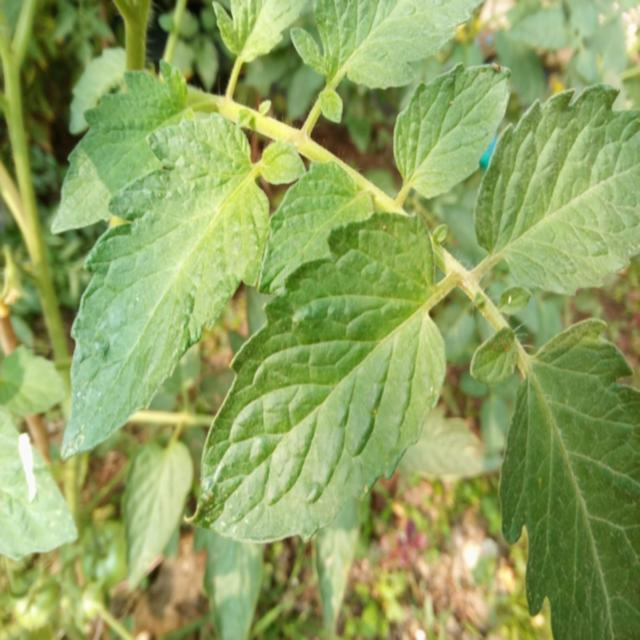Healthy: (156, 175, 512, 597), (16, 89, 308, 497), (500, 320, 640, 639), (11, 44, 216, 253), (474, 85, 640, 294), (223, 151, 379, 309), (393, 63, 508, 199)
